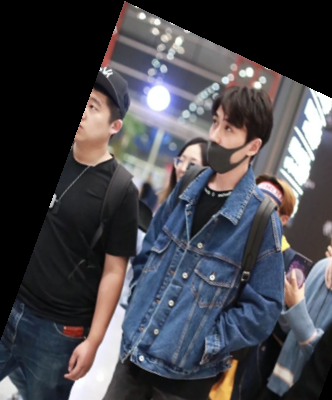mask_weared_incorrect: (195, 84, 282, 172)
